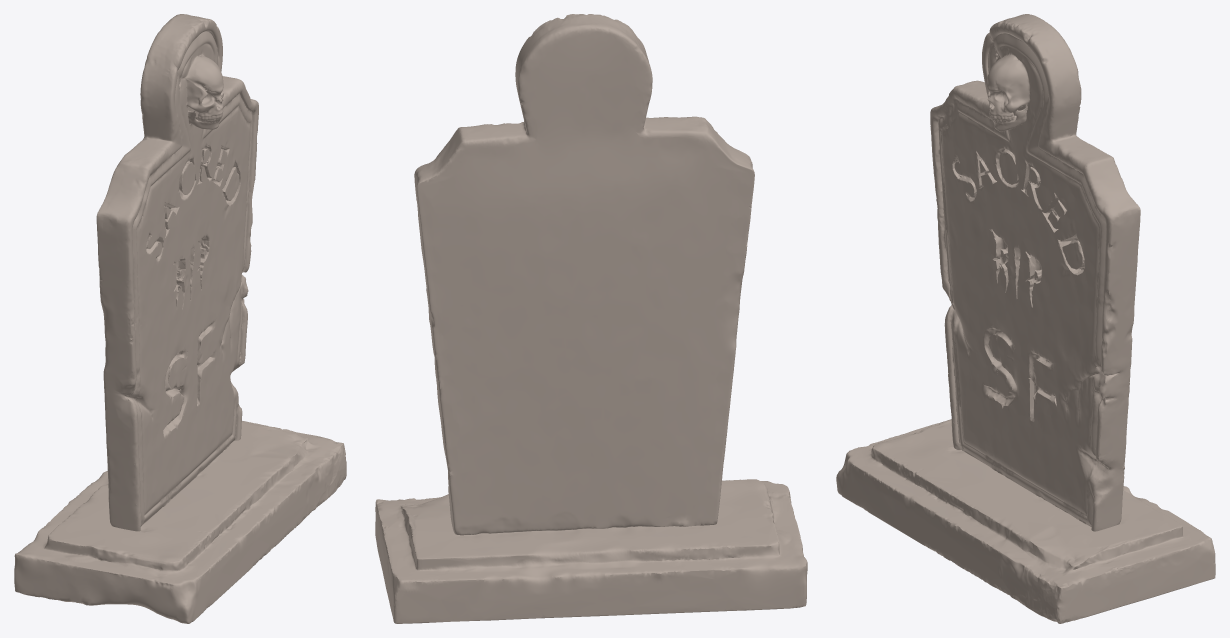
Rendered from halloween_gravestone.glb.
The picture shows the model from 3 angles, left to right: view 1: azimuth 30°, elevation 25°; view 2: azimuth 150°, elevation 25°; view 3: azimuth 270°, elevation 25°; orthographic projection. The views are drawn at different scales.
Parts seen in each view (by area): view 1: gravestone.001_0; view 2: gravestone.001_0; view 3: gravestone.001_0.
Part boxes in pixels (x1,y1,x2,y2): gravestone.001_0: [14, 14, 346, 623]; gravestone.001_0: [375, 14, 807, 623]; gravestone.001_0: [836, 14, 1215, 623].
Size of the model in its own units: 4.36 by 5.85 by 3.89.
1 material, 1 textured.
